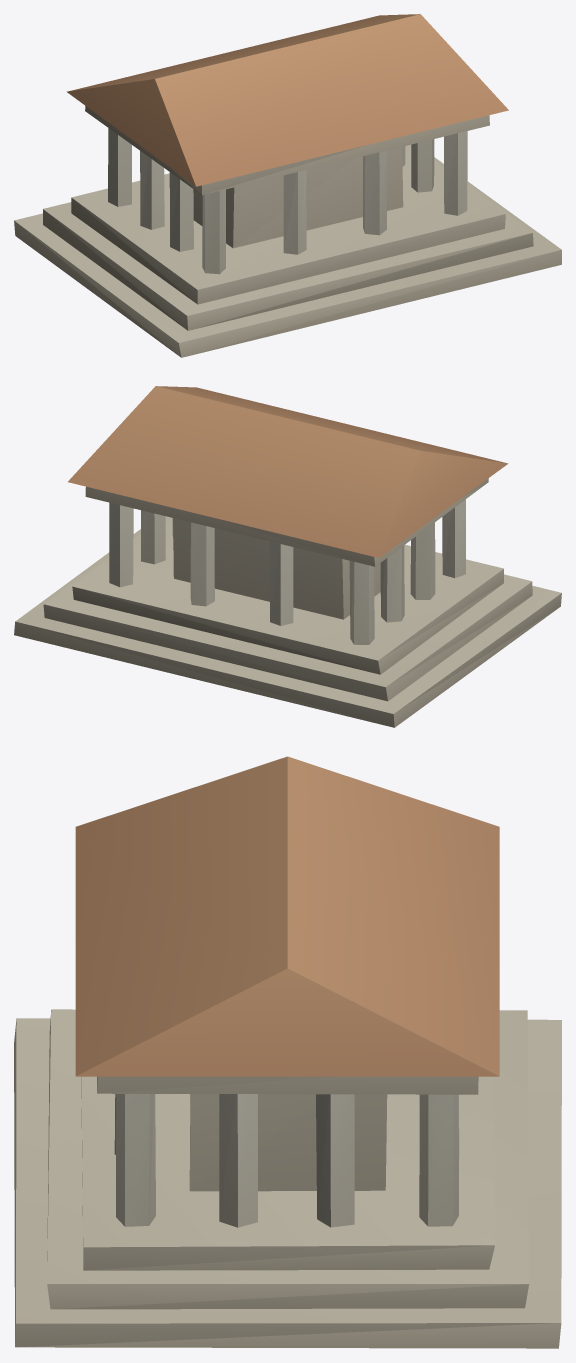
The model's file is wonder-bibliotheca-0.glb.
3 views of the same model, one above another, from view 1: azimuth 30°, elevation 25°; view 2: azimuth 150°, elevation 25°; view 3: azimuth 270°, elevation 25° (orthographic). The views are drawn at different scales.
Parts seen in each view (by area): view 1: wonder-bibliotheca-0; view 2: wonder-bibliotheca-0; view 3: wonder-bibliotheca-0.
Part boxes in pixels (bbox=[...]): wonder-bibliotheca-0: bbox=[14, 14, 561, 357]; wonder-bibliotheca-0: bbox=[14, 386, 561, 727]; wonder-bibliotheca-0: bbox=[14, 756, 561, 1348].
Size of the model in its own units: 1.91 by 0.97 by 1.45.
